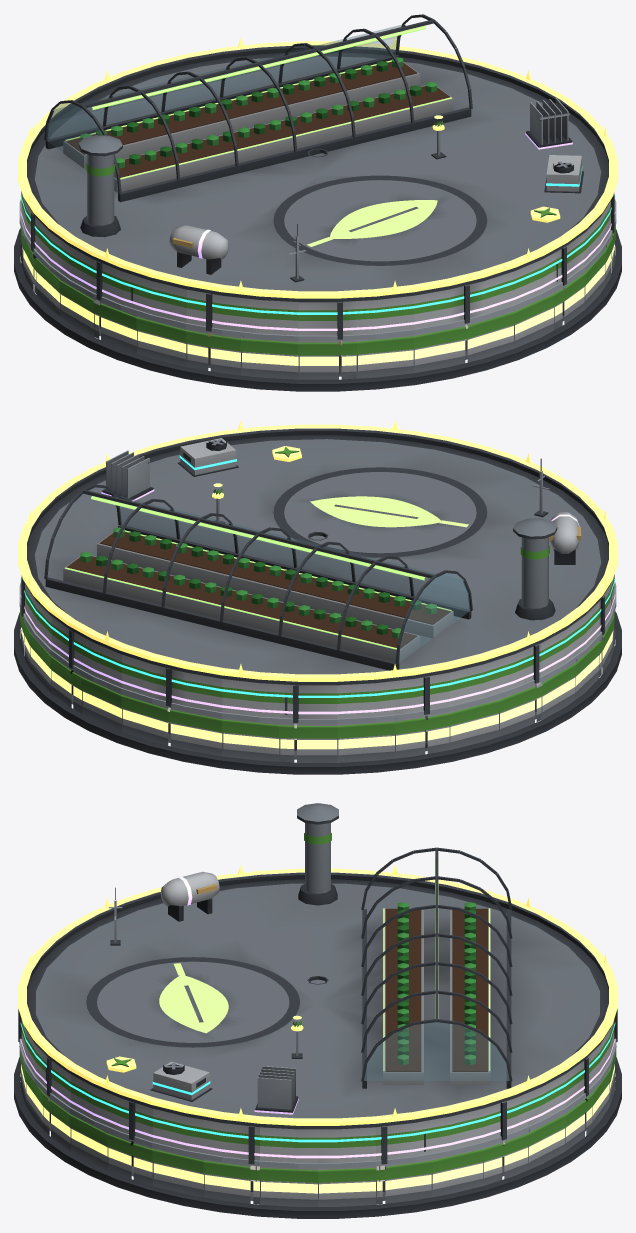
The model's file is kitchen_l_far.glb.
The picture shows the model from 3 angles, top to bottom: view 1: azimuth 30°, elevation 25°; view 2: azimuth 150°, elevation 25°; view 3: azimuth 270°, elevation 25°; orthographic projection.
Visible parts, largest first — view 1: Roof, Base, L5, L4, L2, L3; view 2: Roof, Base, L5, L4, L2, L3; view 3: Roof, Base, L5, L4, L2, L3.
Boxes of the visible parts, left/top/right/bottom form: Roof: left=21, top=14, right=614, bottom=339; Base: left=14, top=225, right=621, bottom=391; L5: left=18, top=37, right=617, bottom=298; L4: left=20, top=98, right=615, bottom=330; L2: left=19, top=199, right=616, bottom=341; L3: left=20, top=148, right=615, bottom=314; Roof: left=21, top=428, right=614, bottom=722; Base: left=14, top=608, right=621, bottom=774; L5: left=18, top=421, right=617, bottom=681; L4: left=20, top=450, right=615, bottom=714; L2: left=19, top=458, right=616, bottom=724; L3: left=20, top=438, right=615, bottom=697; Roof: left=18, top=803, right=617, bottom=1164; Base: left=14, top=1042, right=621, bottom=1218; L5: left=18, top=865, right=617, bottom=1125; L4: left=20, top=871, right=615, bottom=1158; L2: left=19, top=887, right=616, bottom=1168; L3: left=20, top=976, right=615, bottom=1142.
Bounding box in the file's own units: 17.76 × 5.74 × 17.76.
